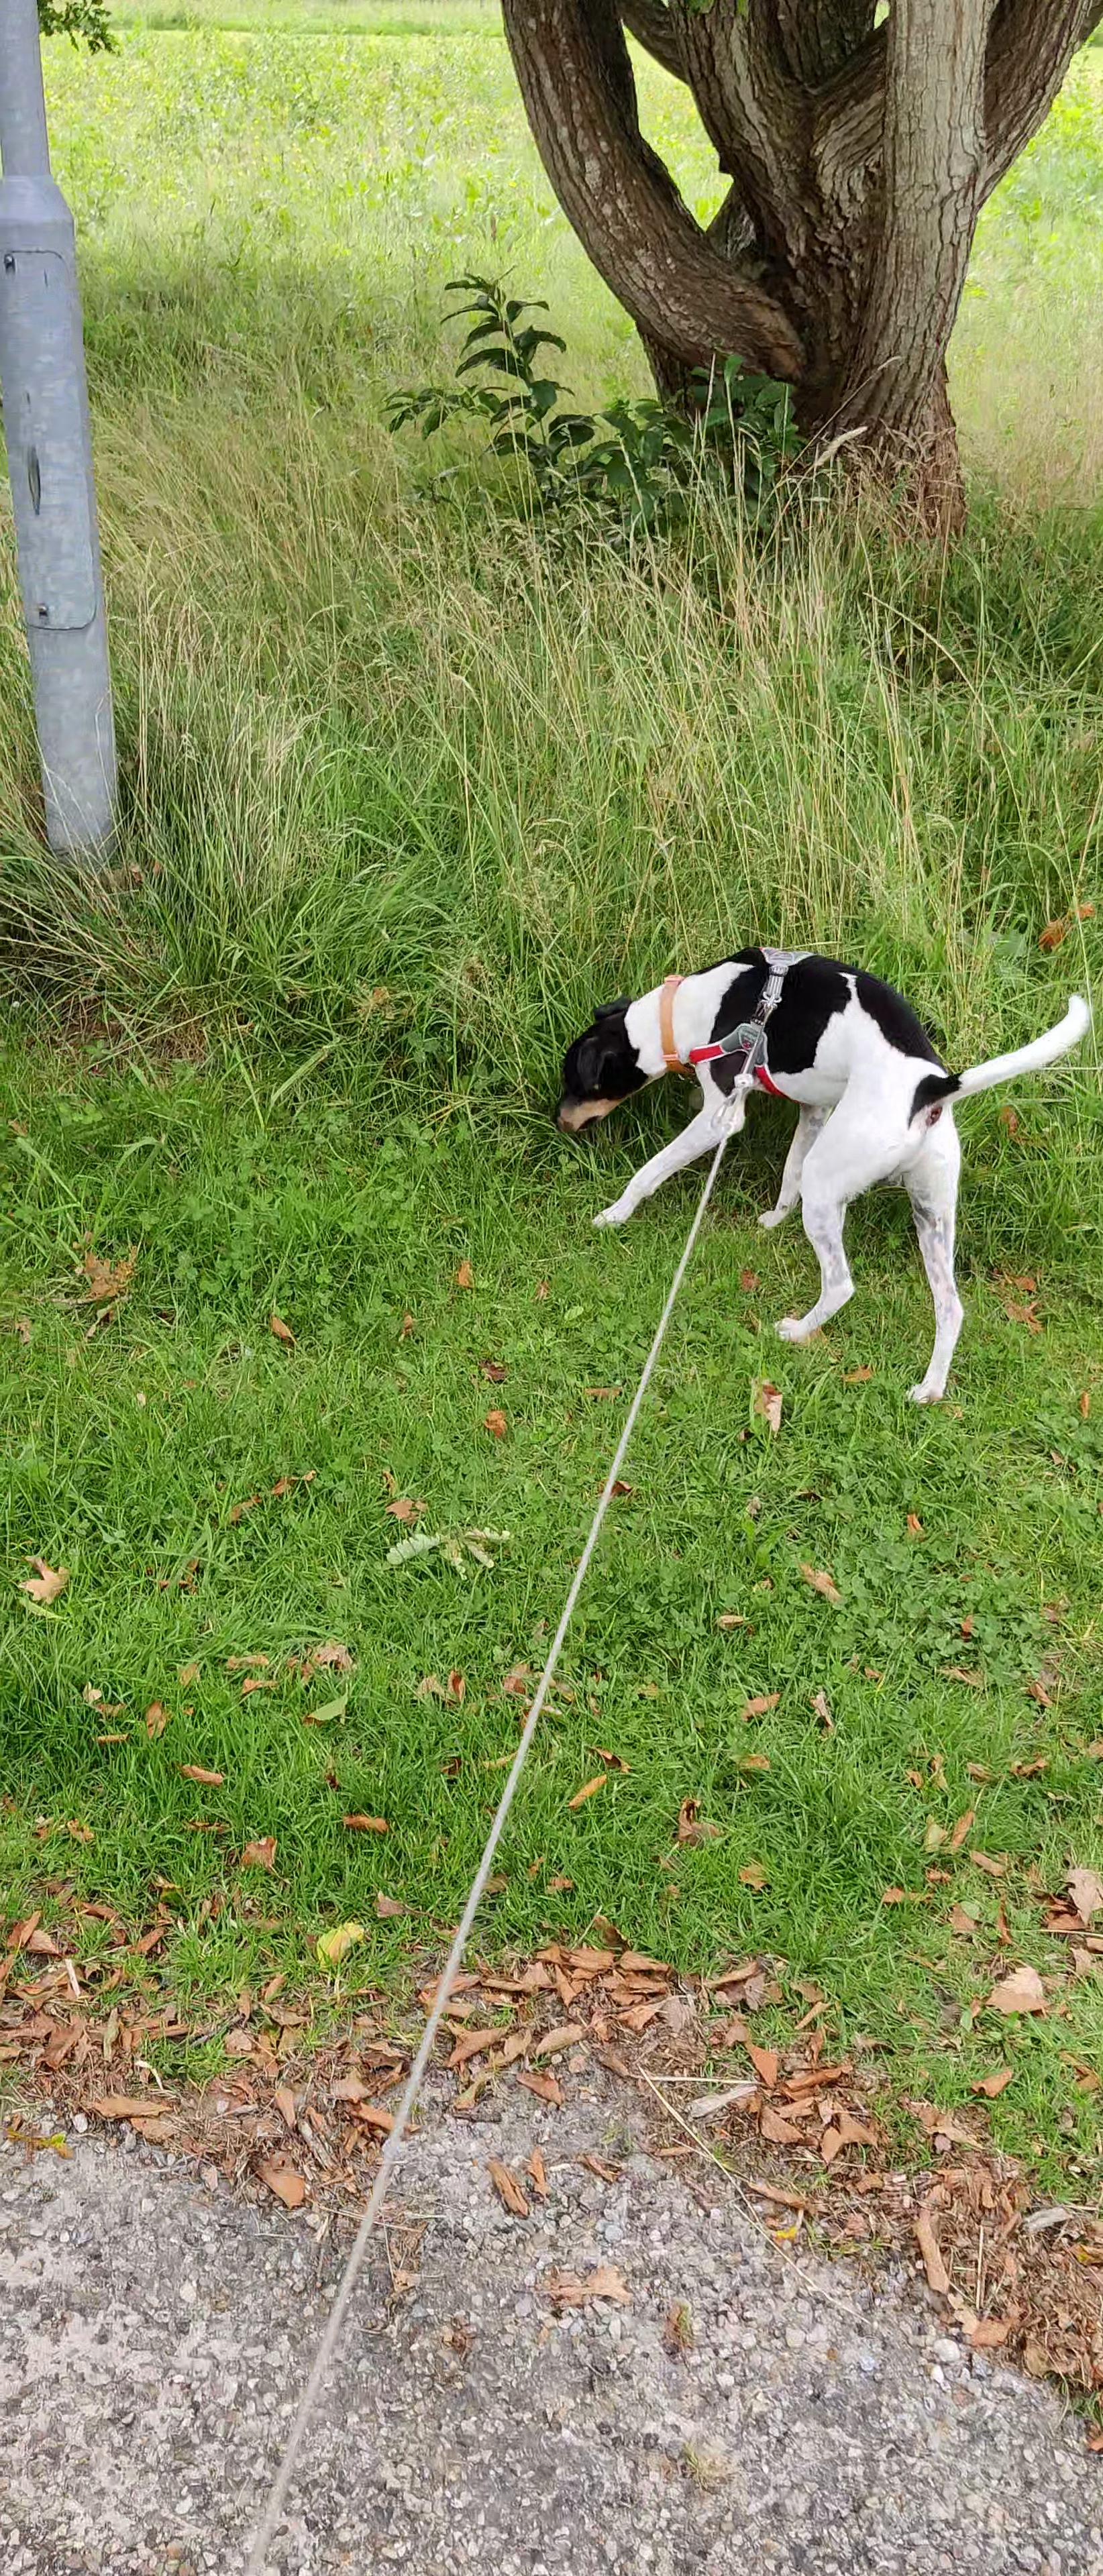Dog: (546, 935, 1095, 1418)
